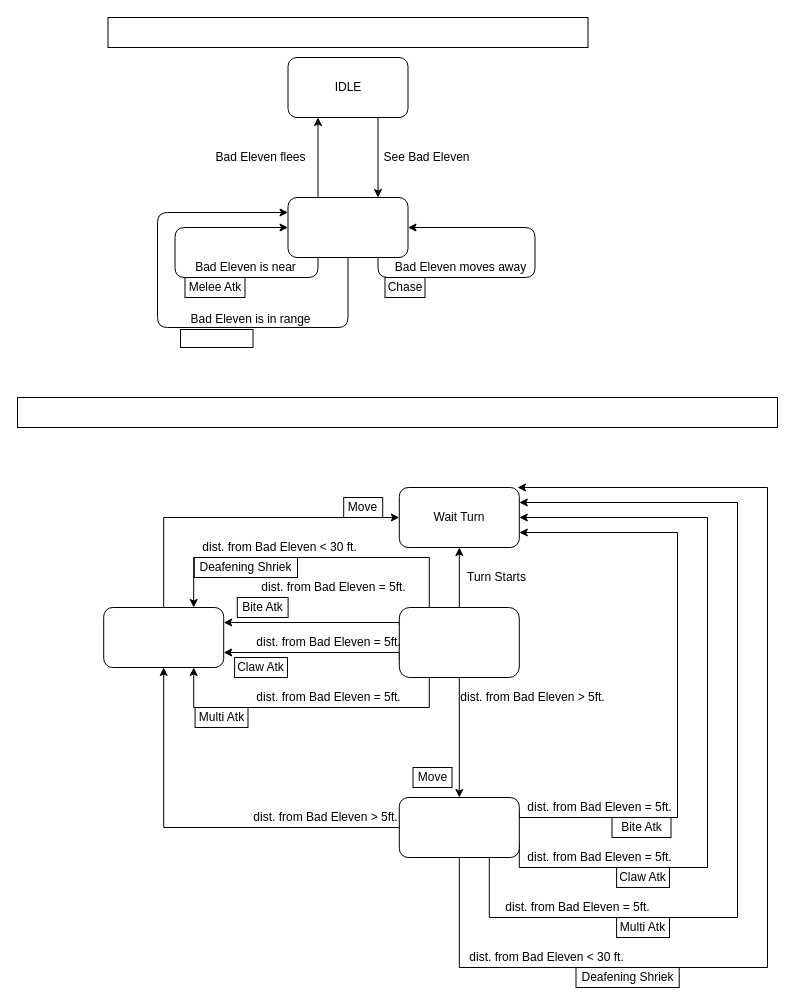
Some shapes in this 795 by 1005 pixel diagram are drawn without their labels. The centre of each missing label's shape, as x and y in pixels:
"Action One" belongs at (x=458, y=642).
"Action Two" belongs at (x=458, y=827).
"AGGRESSIVE" belongs at (x=347, y=227).
"Battle Mode" belongs at (x=397, y=412).
"Free Roaming" belongs at (x=347, y=32).
"Moving Action" belongs at (x=163, y=637).
"Range Atk" belongs at (x=216, y=338).
